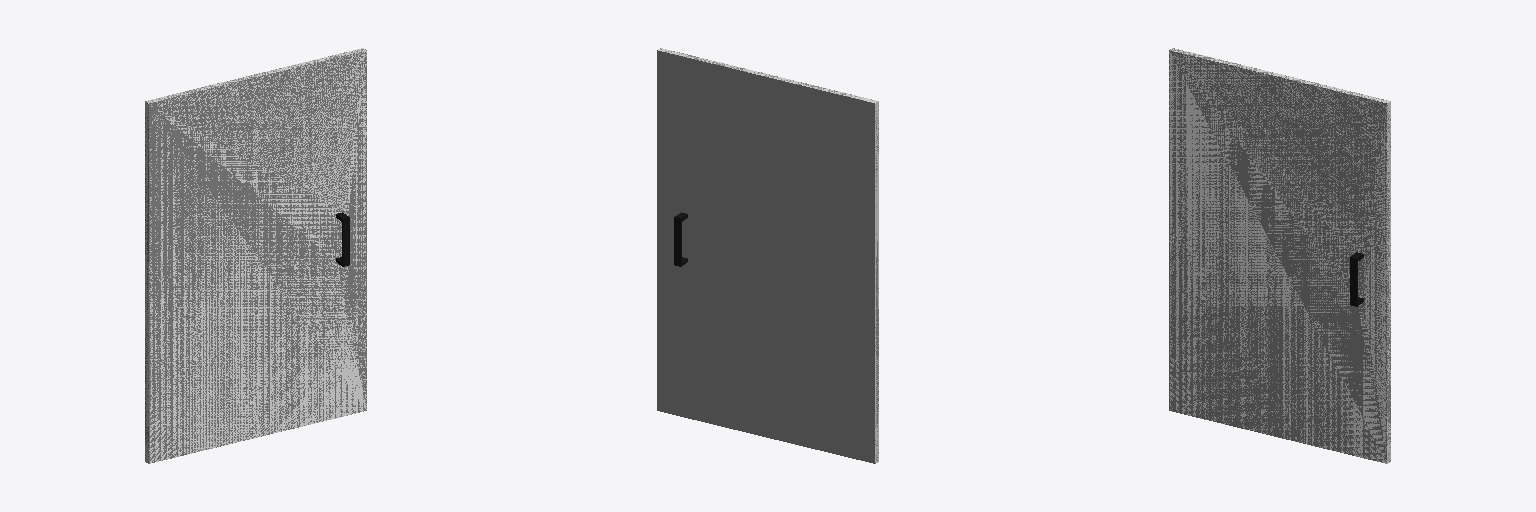
The model's file is Door.obj.
The picture shows the model from 3 angles: view 1: azimuth 30°, elevation 25°; view 2: azimuth 150°, elevation 25°; view 3: azimuth 330°, elevation 25°; orthographic projection.
Visible parts, largest first — view 1: SketchUp, SketchUp_ID18, SketchUp_ID3; view 2: SketchUp, SketchUp_ID3; view 3: SketchUp, SketchUp_ID18, SketchUp_ID3.
Boxes of the visible parts, x1=… form: SketchUp: x1=145, y1=49, x2=366, y2=463; SketchUp_ID18: x1=149, y1=51, x2=366, y2=463; SketchUp_ID3: x1=145, y1=48, x2=365, y2=463; SketchUp: x1=657, y1=48, x2=878, y2=463; SketchUp_ID3: x1=658, y1=48, x2=878, y2=462; SketchUp: x1=1169, y1=48, x2=1390, y2=461; SketchUp_ID18: x1=1169, y1=51, x2=1386, y2=463; SketchUp_ID3: x1=1171, y1=48, x2=1390, y2=463.
Bounding box in the file's own units: 1.9 × 3 × 0.25.